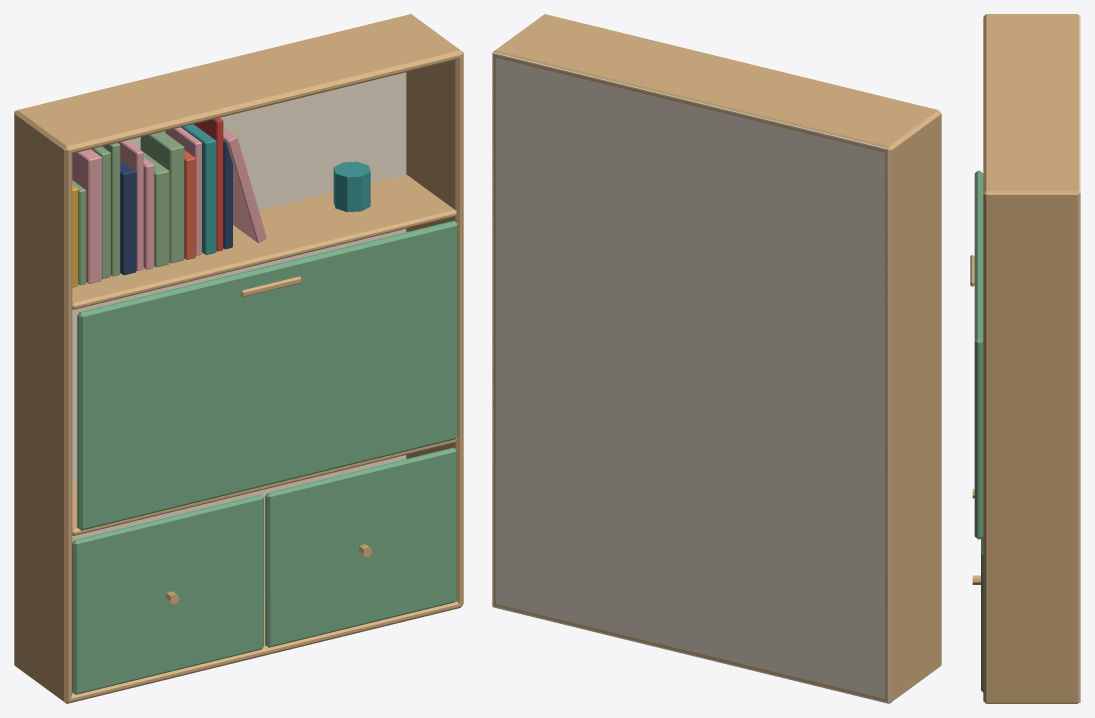
The model's file is wall_laptop_desk.glb.
3 renders of one model, left to right at view 1: azimuth 30°, elevation 25°; view 2: azimuth 150°, elevation 25°; view 3: azimuth 270°, elevation 25°, orthographic. The views are drawn at different scales.
Visible parts, largest first — view 1: wall_laptop_desk_Body, wall_laptop_desk_Flap; view 2: wall_laptop_desk_Body; view 3: wall_laptop_desk_Body, wall_laptop_desk_Flap.
Boxes of the visible parts, box(x1,y1,x2,y2) form: wall_laptop_desk_Body: box(14, 14, 463, 703); wall_laptop_desk_Flap: box(77, 220, 458, 530); wall_laptop_desk_Body: box(492, 14, 941, 703); wall_laptop_desk_Body: box(972, 14, 1080, 703); wall_laptop_desk_Flap: box(970, 170, 983, 539).
Size of the model in its own units: 1.2 by 1.6 by 0.311.
